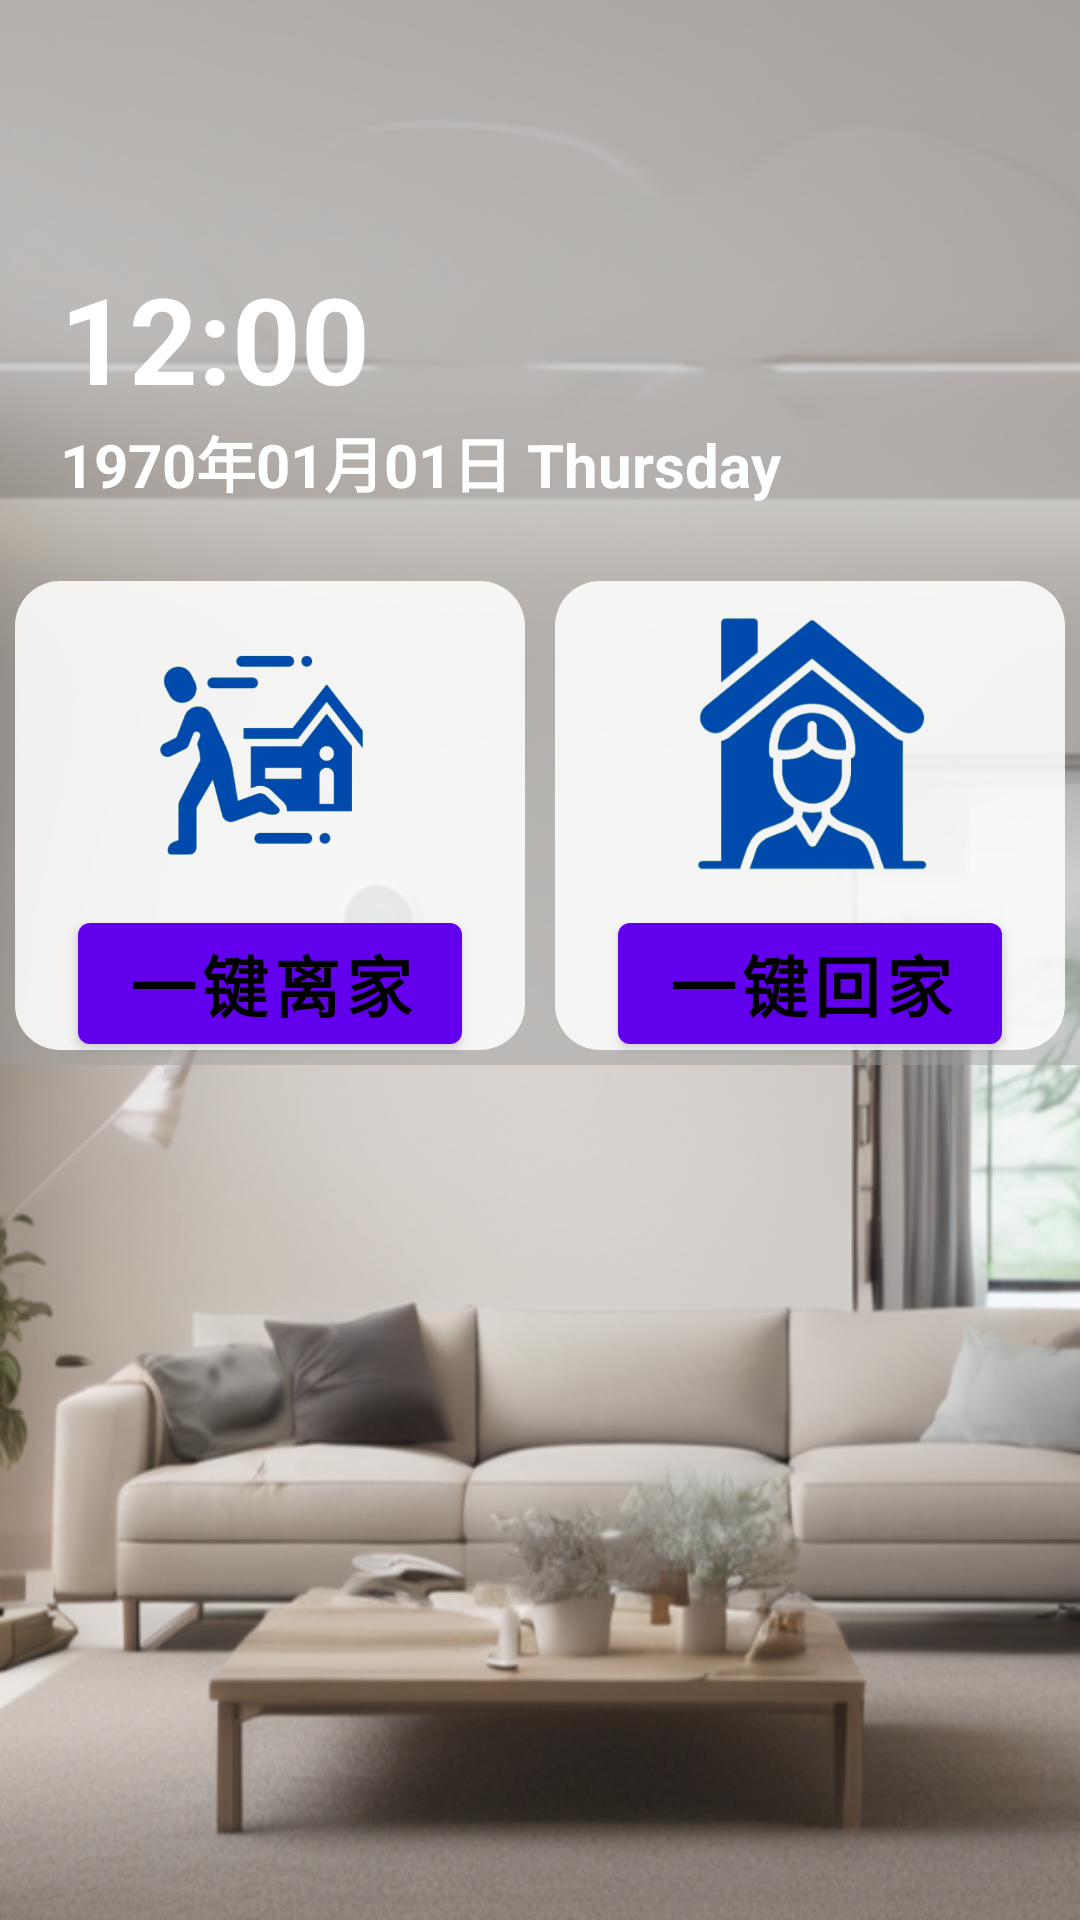

Icons on this 1080px x 1920px Android screen, each with the point to tap as (x=x, y=y):
home: (x=812, y=744)
leavinghome: (x=261, y=755)
